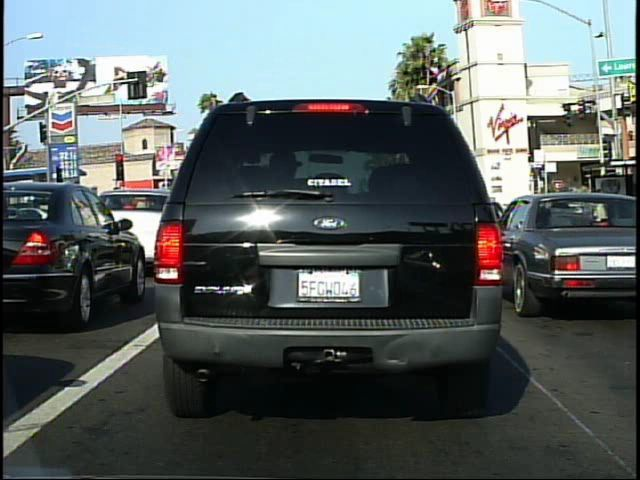person: (590, 183, 614, 252)
